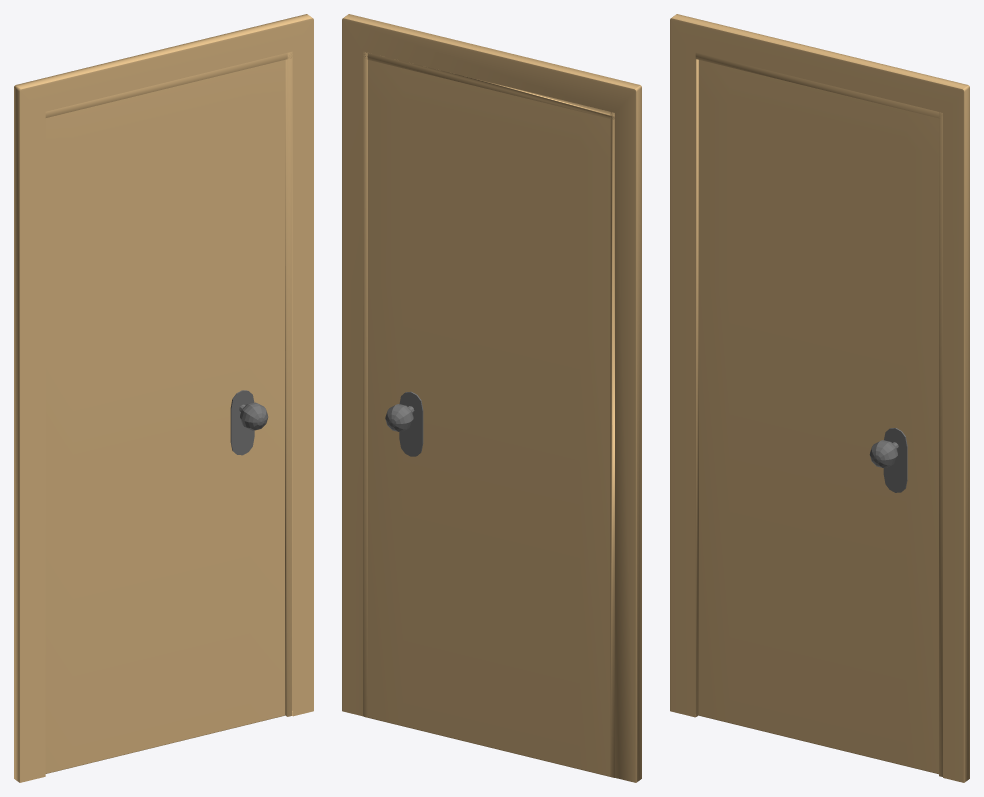
Rendered from puerta.fbx.
3 views of the same model, side by side, from view 1: azimuth 30°, elevation 25°; view 2: azimuth 150°, elevation 25°; view 3: azimuth 330°, elevation 25° (orthographic).
Visible parts, largest first — view 1: Puerta, Marco; view 2: Puerta, Marco; view 3: Puerta, Marco.
Boxes of the visible parts, x1,y1,x2,y2 form: Puerta: [45, 52, 292, 773]; Marco: [14, 14, 313, 782]; Puerta: [363, 51, 614, 777]; Marco: [342, 14, 641, 782]; Puerta: [695, 52, 942, 776]; Marco: [670, 14, 969, 782].
Bounding box in the file's own units: 552 × 1245 × 138.
